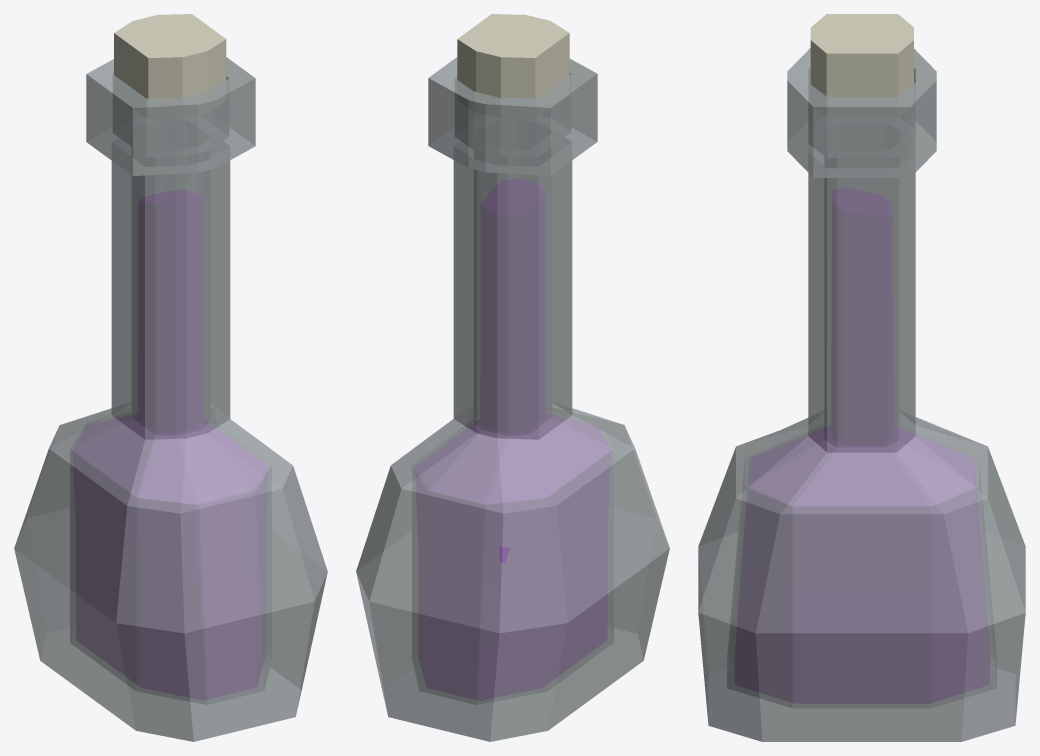
The model's file is strength_potion.fbx.
3 views of the same model, side by side, from view 1: azimuth 30°, elevation 25°; view 2: azimuth 150°, elevation 25°; view 3: azimuth 270°, elevation 25° (orthographic). The views are drawn at different scales.
Parts seen in each view (by area): view 1: bottle, cork; view 2: bottle, cork; view 3: bottle, cork.
Part boxes in pixels (x1,y1,x2,y2): bottle: (14,57,327,741); cork: (114,14,226,98); bottle: (356,57,669,741); cork: (457,14,569,98); bottle: (698,48,1025,741); cork: (810,14,913,96).
Size of the model in its own units: 0.1515 by 0.4375 by 0.195.
